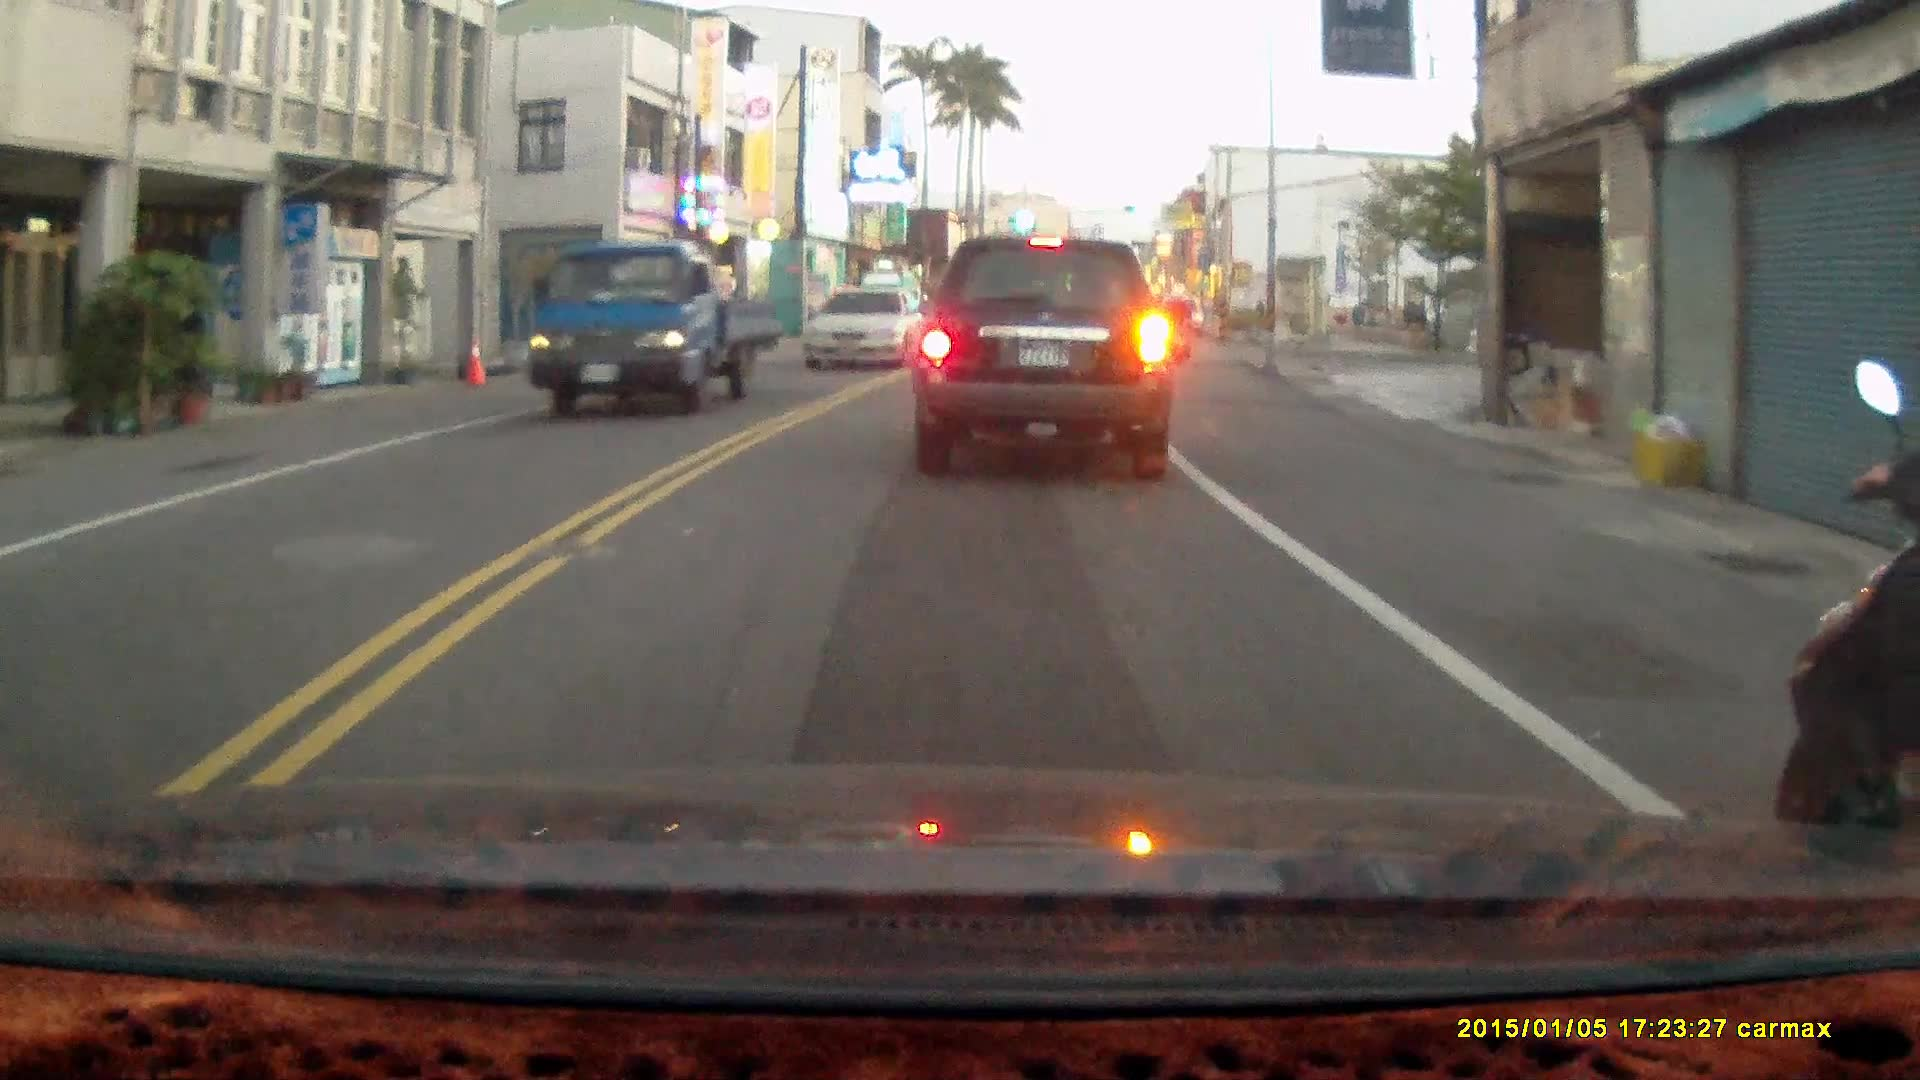rider: (1774, 345, 1920, 890), (1161, 282, 1192, 365)
vehicle: (912, 228, 1179, 479), (524, 234, 777, 417), (806, 284, 924, 372)
